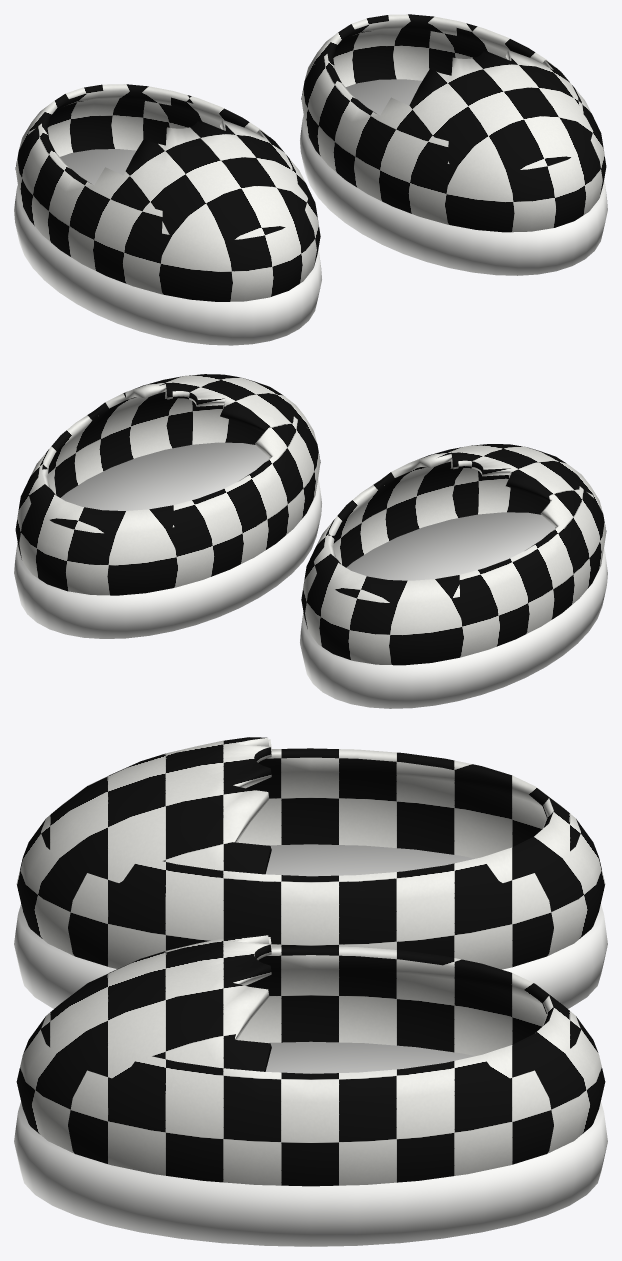
Rendered from slipons1.fbx.
3 renders of one model, top to bottom at view 1: azimuth 30°, elevation 25°; view 2: azimuth 150°, elevation 25°; view 3: azimuth 270°, elevation 25°, orthographic. The views are drawn at different scales.
Parts seen in each view (by area): view 1: slipons1; view 2: slipons1; view 3: slipons1.
Part boxes in pixels (x1,y1,x2,y2): slipons1: [14, 14, 607, 345]; slipons1: [14, 374, 607, 708]; slipons1: [14, 737, 607, 1246].
Size of the model in its own units: 0.634 by 0.181 by 0.45.
Materials: 2 (1 with a texture image).
